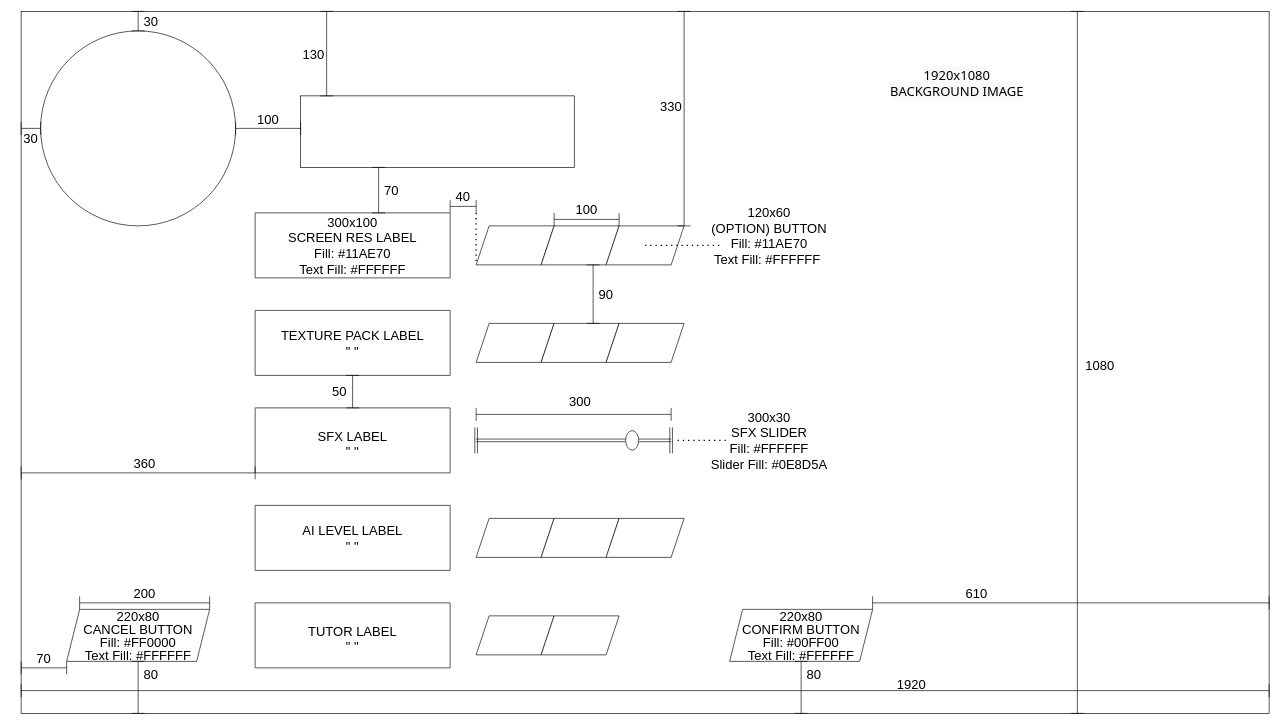
The diagram is 1281 pixels wide and 725 high, and some of its shapes have lost their labels. Each missing label, with the box of its shape:
300x300 (LOGO) Fill : #11AE70: (40, 30, 236, 226)
500x100 TITLE Text Fill: #11AE70: (300, 95, 574, 167)
